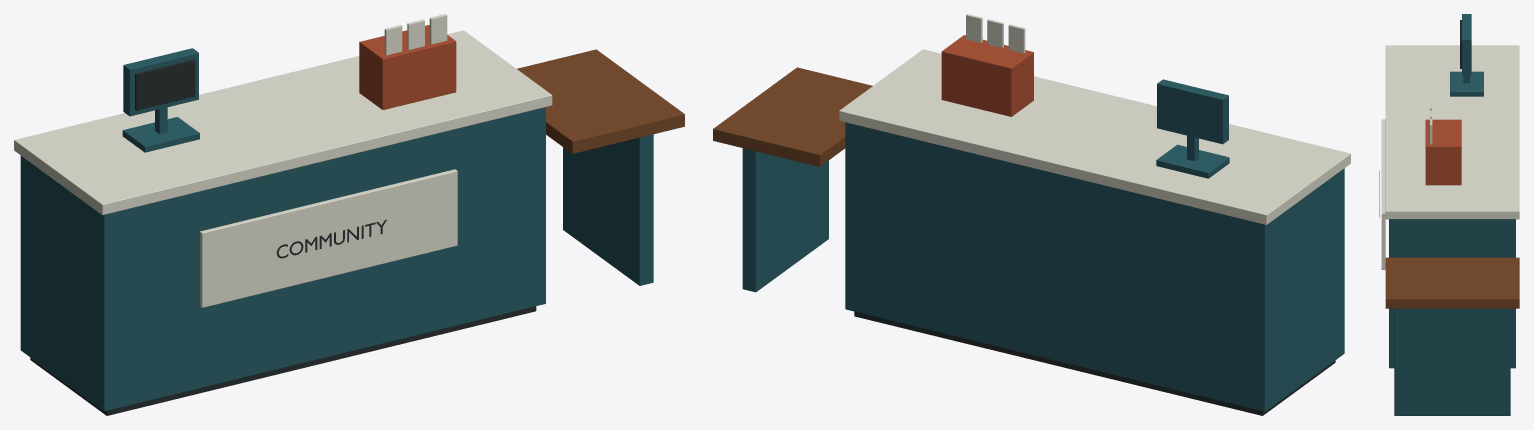
File: source-edit.glb
3 views of the same model, side by side, from view 1: azimuth 30°, elevation 25°; view 2: azimuth 150°, elevation 25°; view 3: azimuth 270°, elevation 25° (orthographic). The views are drawn at different scales.
Parts seen in each view (by area): view 1: Counter_Body, Worktop, Replaceable_Community_Panel, Accessible_Leg, Accessible_Desk, Brochure_Holder, Counter_Base, Screen, Screen_Housing, Terminal_Foot, Editable_Label_COMMUNITY; view 2: Counter_Body, Worktop, Accessible_Leg, Accessible_Desk, Brochure_Holder, Screen_Housing, Counter_Base, Terminal_Foot; view 3: Worktop, Accessible_Leg, Accessible_Desk, Counter_Body, Brochure_Holder, Terminal_Foot, Replaceable_Community_Panel, Screen_Housing.
Boxes of the visible parts, x1=… form: Counter_Body: x1=20, y1=107, x2=545, y2=411; Worktop: x1=14, y1=30, x2=552, y2=214; Replaceable_Community_Panel: x1=200, y1=169, x2=457, y2=307; Accessible_Leg: x1=563, y1=134, x2=653, y2=285; Accessible_Desk: x1=517, y1=49, x2=684, y2=153; Brochure_Holder: x1=359, y1=25, x2=456, y2=109; Counter_Base: x1=30, y1=306, x2=536, y2=415; Screen: x1=135, y1=59, x2=195, y2=110; Screen_Housing: x1=123, y1=48, x2=198, y2=116; Terminal_Foot: x1=122, y1=117, x2=199, y2=152; Editable_Label_COMMUNITY: x1=276, y1=219, x2=386, y2=258; Counter_Body: x1=845, y1=122, x2=1344, y2=411; Worktop: x1=839, y1=49, x2=1350, y2=224; Accessible_Leg: x1=742, y1=148, x2=828, y2=292; Accessible_Desk: x1=713, y1=67, x2=872, y2=166; Brochure_Holder: x1=941, y1=35, x2=1033, y2=116; Screen_Housing: x1=1157, y1=79, x2=1228, y2=144; Counter_Base: x1=854, y1=311, x2=1335, y2=415; Terminal_Foot: x1=1156, y1=144, x2=1229, y2=178; Worktop: x1=1385, y1=45, x2=1519, y2=219; Accessible_Leg: x1=1394, y1=308, x2=1510, y2=415; Accessible_Desk: x1=1385, y1=257, x2=1519, y2=308; Counter_Body: x1=1389, y1=219, x2=1515, y2=368; Brochure_Holder: x1=1425, y1=119, x2=1461, y2=185; Terminal_Foot: x1=1450, y1=71, x2=1483, y2=96; Replaceable_Community_Panel: x1=1381, y1=119, x2=1385, y2=269; Screen_Housing: x1=1462, y1=14, x2=1471, y2=74.
Bounding box in the file's own units: 2.85 × 1.39 × 0.7845.
